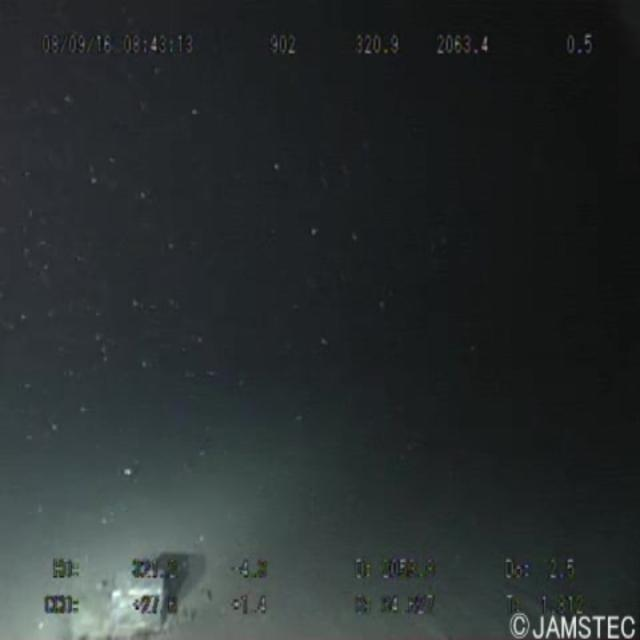Glass: (65, 550, 216, 635)
